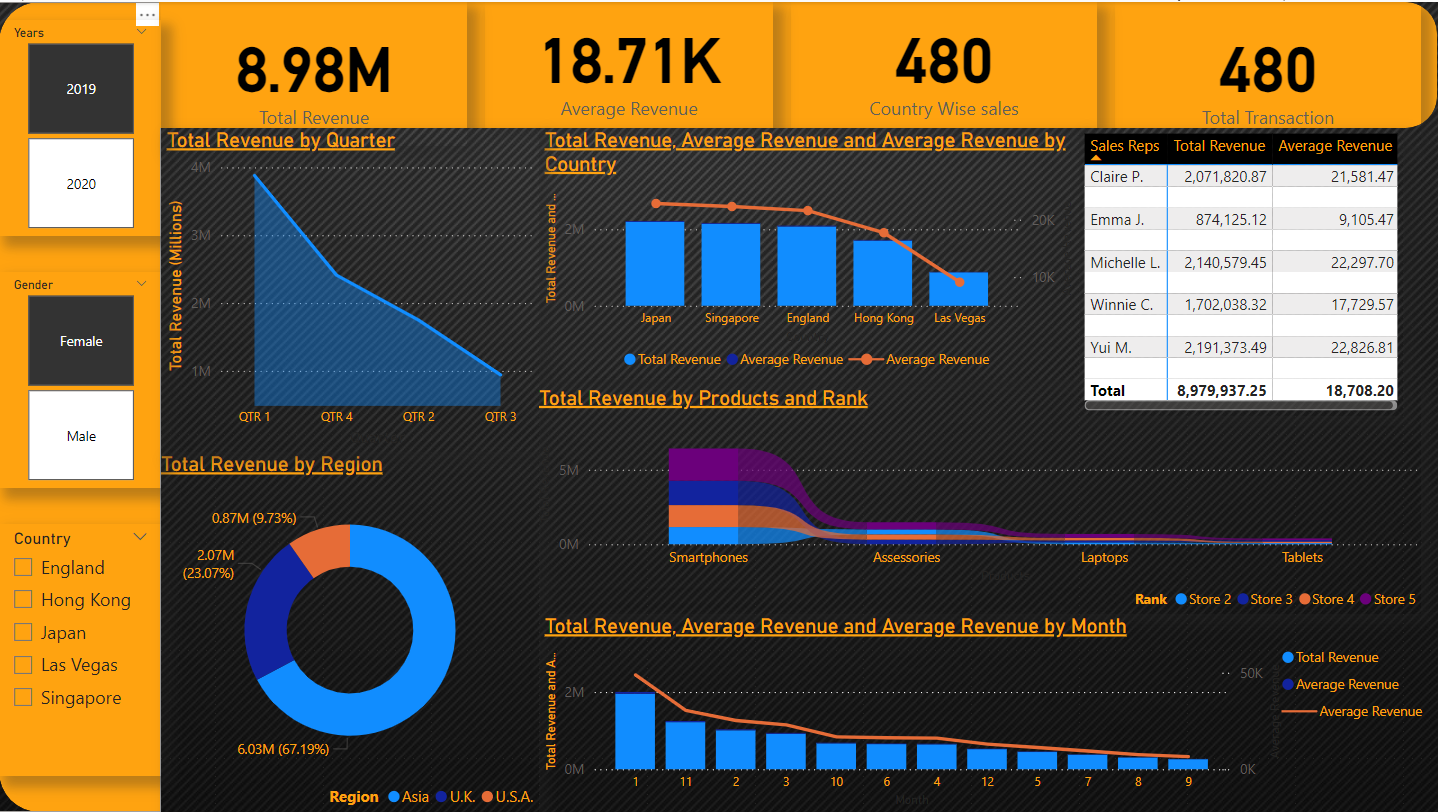

This screenshot's page, from the dashboard's own definition file:
{"tool":"powerbi","page":{"name":"Page 1","canvas":[1280,720],"ordinal":0},"visuals":[{"type":"shape","box":[0,0,144,720],"z":0},{"type":"shape","box":[142.6,-0.4,1136,112],"z":1000},{"type":"card","fields":{"Values":["Measure.Total Revenue"]},"box":[144,0,272,128],"z":2000},{"type":"card","fields":{"Values":["Measure.Average Revenue"]},"box":[432,0,256,112],"z":3000},{"type":"card","fields":{"Values":["Measure.Country Wise sales"]},"box":[704,0,272,112],"z":4000},{"type":"card","fields":{"Values":["Measure.Total Transaction"]},"box":[992,0,272,128],"z":5000},{"type":"donutChart","fields":{"Y":["Measure.Total Revenue"],"Category":["Sheet1.Region"]},"box":[144,400,336,320],"z":6000},{"type":"lineStackedColumnComboChart","fields":{"Category":["Sheet1.Country"],"Y":["Measure.Total Revenue","Measure.Average Revenue"],"Y2":["Measure.Average Revenue"]},"box":[480,112,480,224],"z":7000},{"type":"areaChart","fields":{"Y":["Measure.Total Revenue"],"Category":["Sheet1.Quarter"]},"box":[144,112,336,288],"z":9000},{"type":"ribbonChart","fields":{"Category":["Sheet1.Products"],"Y":["Measure.Total Revenue"],"Series":["Sheet1.Rank"]},"box":[480,336,784,208],"z":10000},{"type":"pivotTable","fields":{"Values":["Measure.Total Revenue","Measure.Average Revenue"],"Rows":["Sheet1.Sales Reps"]},"box":[960,112,288,256],"z":11000},{"type":"lineStackedColumnComboChart","fields":{"Y":["Measure.Total Revenue","Measure.Average Revenue"],"Y2":["Measure.Average Revenue"],"Category":["Sheet1.Month"]},"box":[480,544,800,176],"z":12000},{"type":"slicer","fields":{"Values":["Sheet1.Years"]},"box":[0,16,144,192],"z":13000},{"type":"slicer","fields":{"Values":["Sheet1.Gender"]},"box":[0,240,144,192],"z":14000},{"type":"slicer","fields":{"Values":["Sheet1.Country"]},"box":[0,464,144,224],"z":15000}]}

Visuals, with their boxes in screenshot pixels (x1, y1, x2, y2), scaled from the page's 1280x720 canvas onto the 1438x812 screenshot:
shape: box(0, 0, 162, 811)
shape: box(160, 0, 1436, 126)
card - Measure.Total Revenue: box(162, 0, 467, 144)
card - Measure.Average Revenue: box(485, 0, 773, 126)
card - Measure.Country Wise sales: box(791, 0, 1096, 126)
card - Measure.Total Transaction: box(1114, 0, 1420, 144)
donutChart - Measure.Total Revenue x Sheet1.Region: box(162, 451, 539, 811)
lineStackedColumnComboChart - Sheet1.Country x Measure.Total Revenue: box(539, 126, 1078, 379)
areaChart - Measure.Total Revenue x Sheet1.Quarter: box(162, 126, 539, 451)
ribbonChart - Sheet1.Products x Measure.Total Revenue: box(539, 379, 1420, 614)
pivotTable - Measure.Total Revenue x Measure.Average Revenue: box(1078, 126, 1402, 415)
lineStackedColumnComboChart - Measure.Total Revenue x Measure.Average Revenue: box(539, 614, 1437, 811)
slicer - Sheet1.Years: box(0, 18, 162, 235)
slicer - Sheet1.Gender: box(0, 271, 162, 487)
slicer - Sheet1.Country: box(0, 523, 162, 776)
